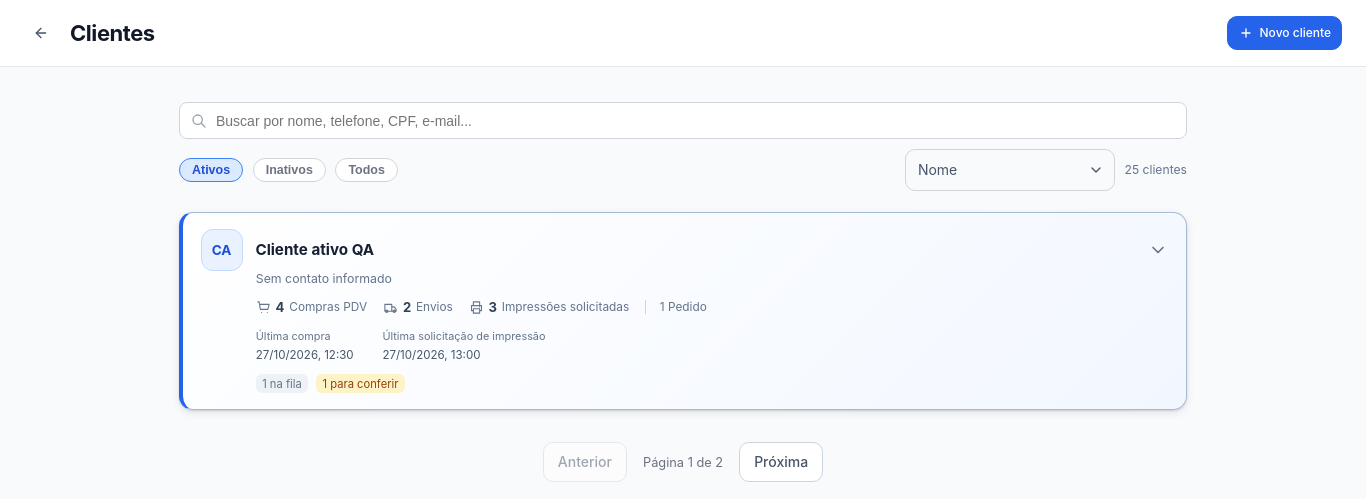
Test: Customer status filters › retries the failed page and keeps errors distinct from empty results
This screenshot has width=1366, height=499.
Click the button "Próxima". click: (781,462)
box: [739, 442, 823, 482]
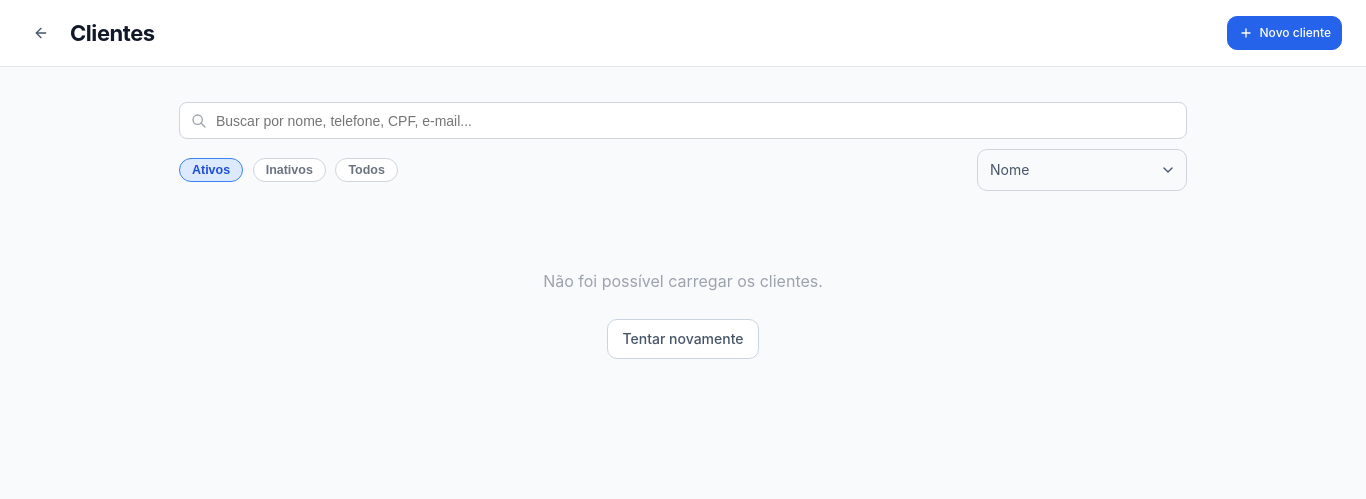
Check: the message "Não foi possível carregar os clientes. Tentar novamente" is shown, box [543, 271, 823, 359]
Check: the text with class "total-count" is gone
Click the button "Tentar novamente". click: (683,339)
box: [608, 319, 759, 359]
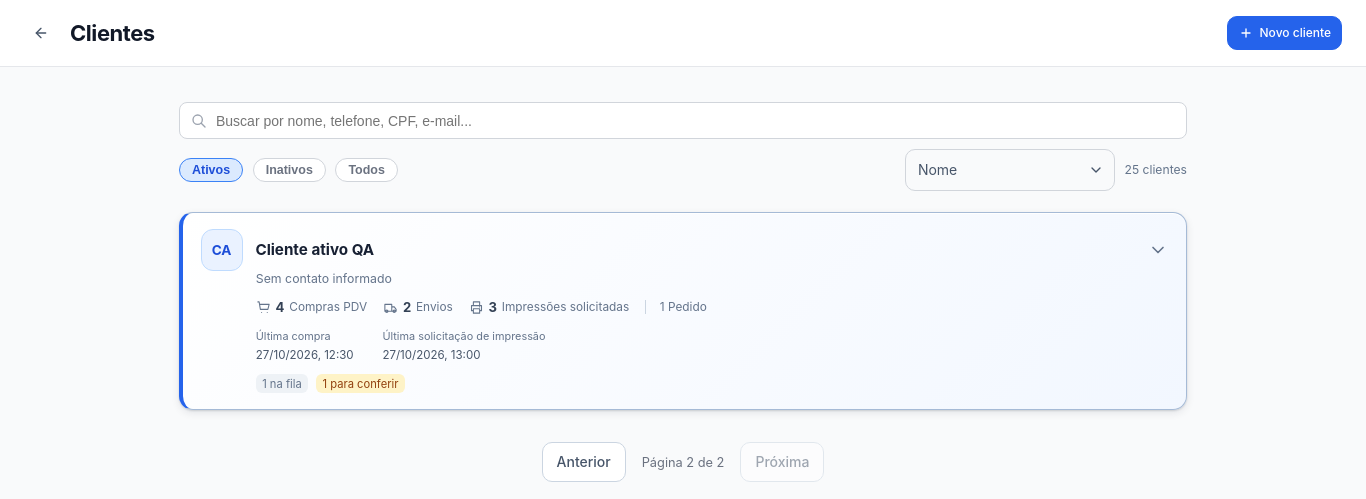
Check: the navigation bar with class "customer-pagination" shows "Página 2 de 2", box [642, 455, 724, 470]
Check: the button "Próxima" is disabled, box [740, 442, 824, 482]
